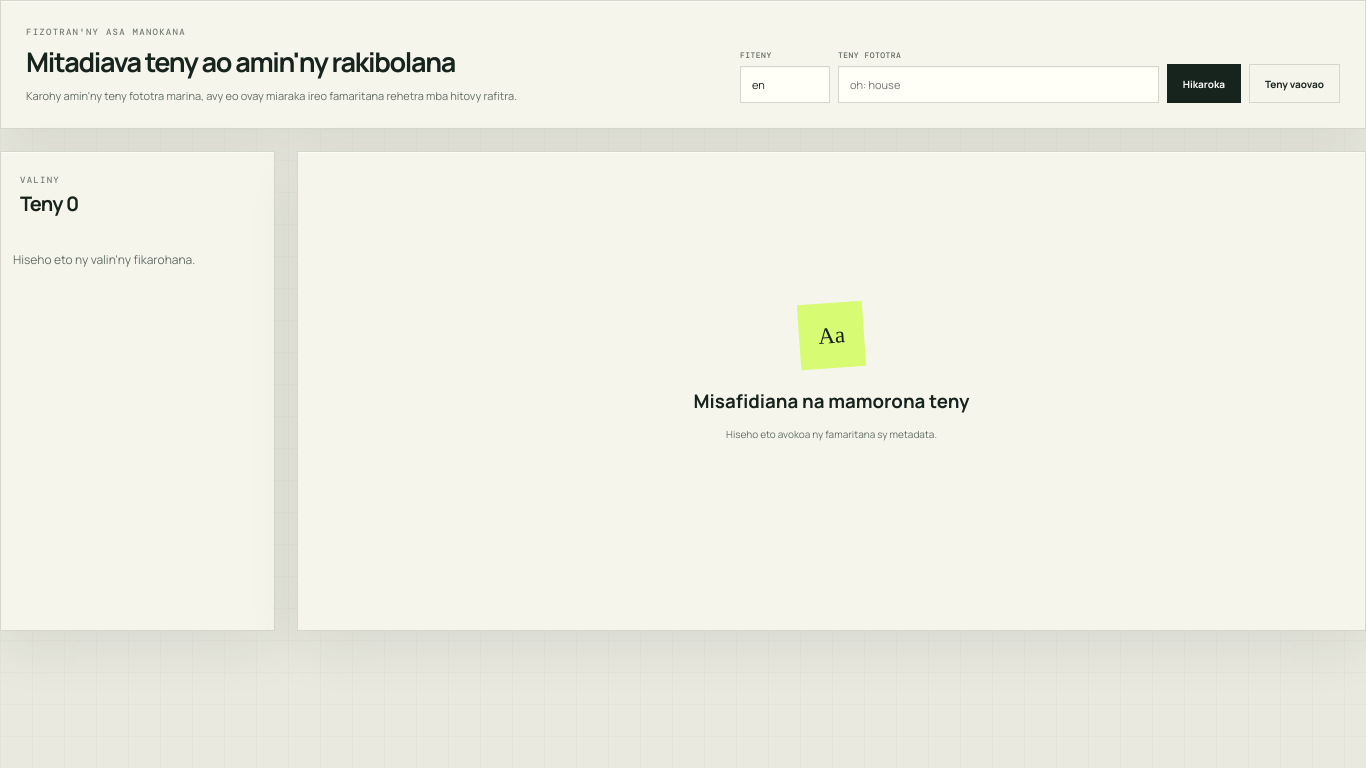
Test case: DictionaryWorkspace › ignores definition impact returned for a previously selected entry
Type "house" into the field labelled "Teny fototra" at (998, 84), box [838,66,1159,103]
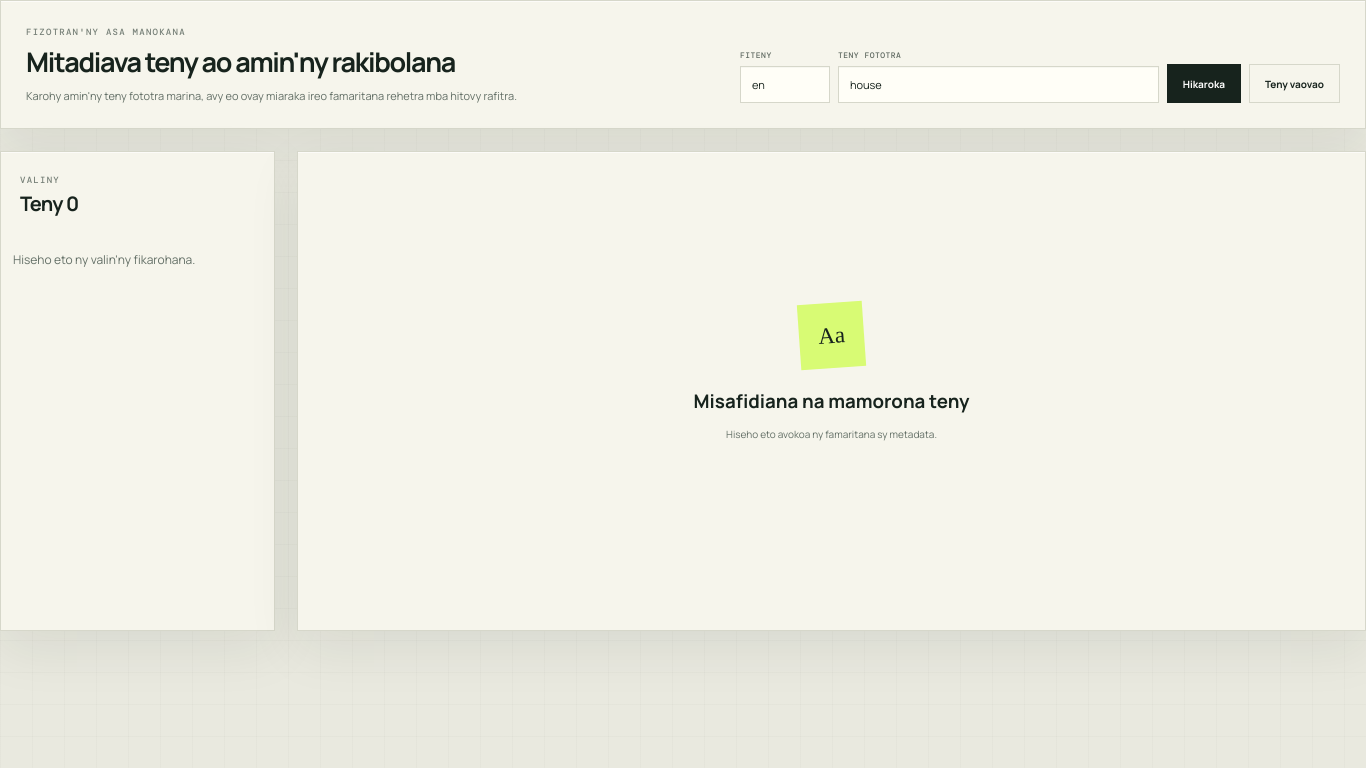
Click the button "Hikaroka" at (1204, 84), box [1167,64,1241,103]
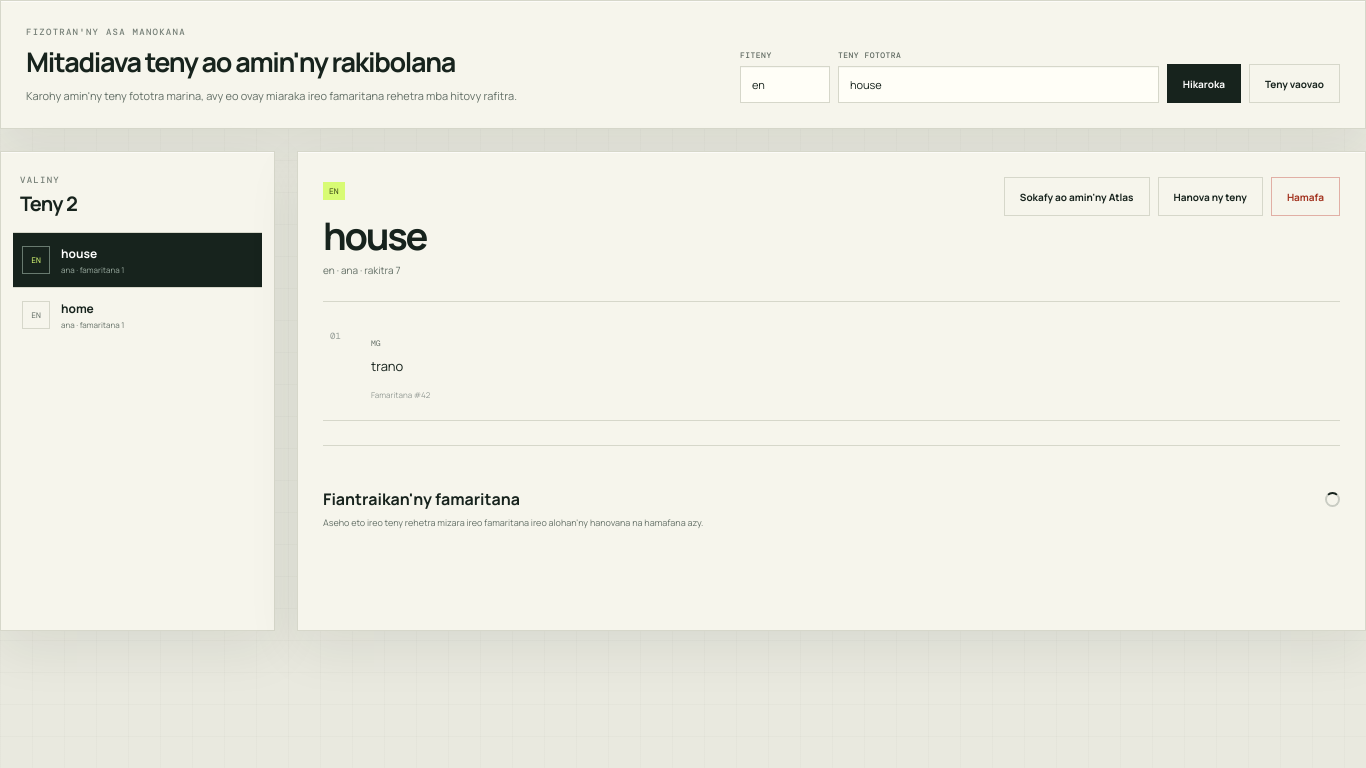
Click the button "en home ana · famaritana 1" at (138, 314), box [13,287,262,342]
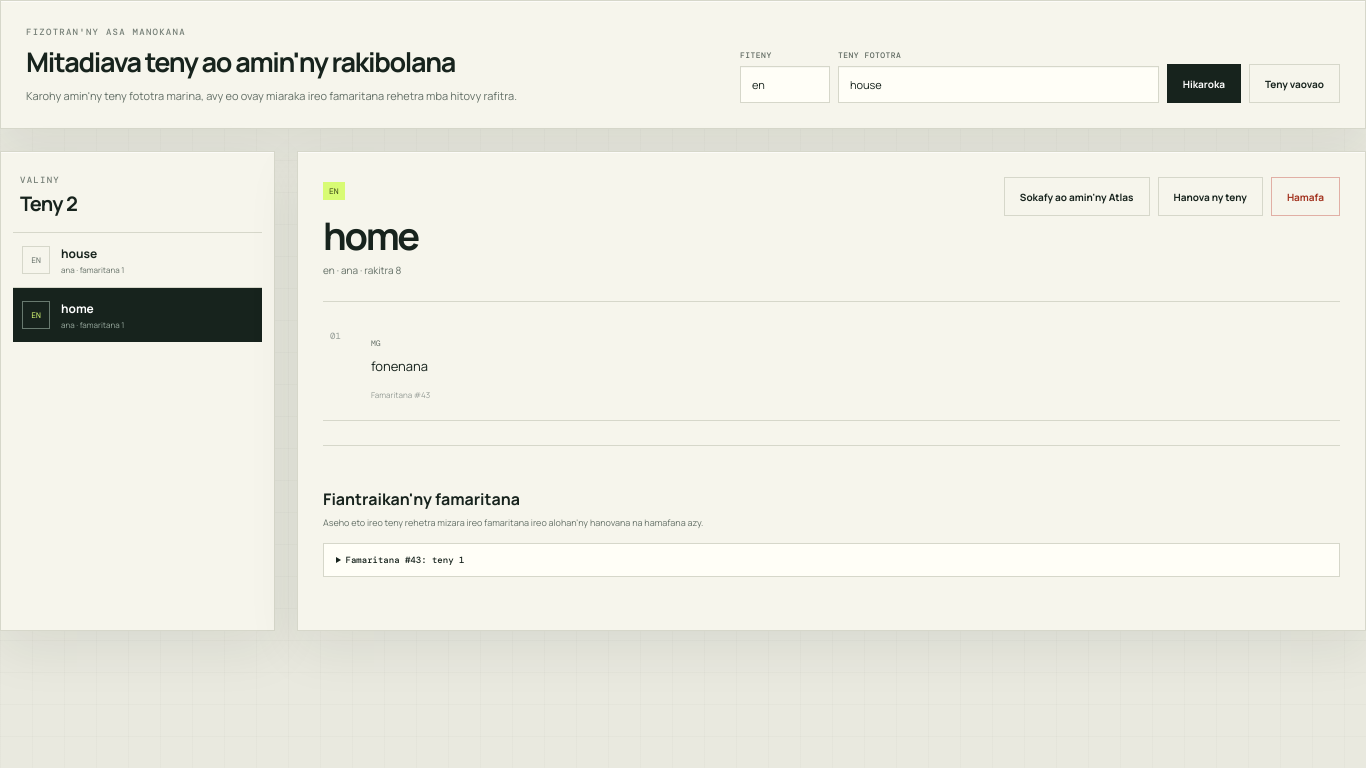
Now the text "Famaritana #42" is gone
Now the heading "Famaritana #43: teny 1" is shown, box [346,554,464,566]
